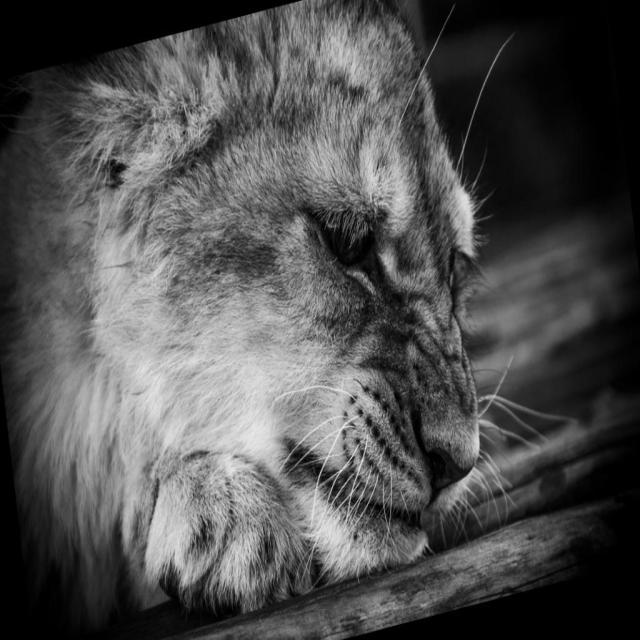Lion: (0, 0, 594, 639)
